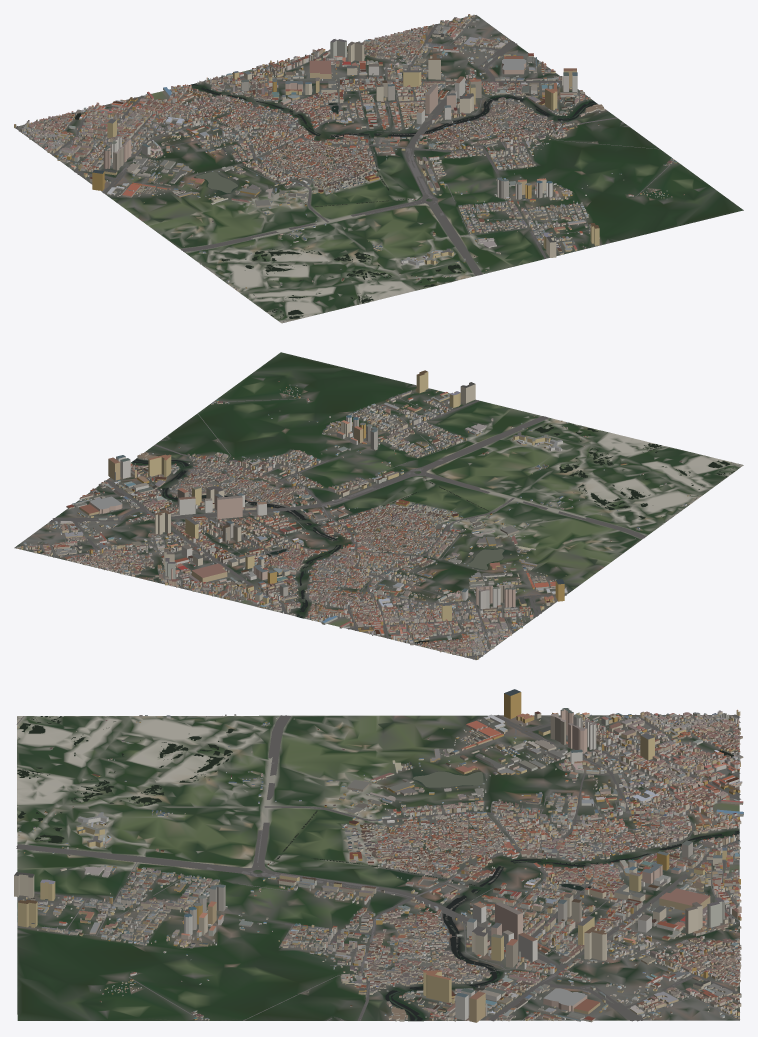
3 renders of one model, top to bottom at view 1: azimuth 30°, elevation 25°; view 2: azimuth 150°, elevation 25°; view 3: azimuth 270°, elevation 25°, orthographic. The views are drawn at different scales.
Visible parts, largest first — view 1: ground, buildings, roads, water; view 2: ground, buildings, roads, water; view 3: ground, buildings, roads, water.
Part boxes in pixels (x1,y1,x2,y2): ground: (15, 15, 743, 323); buildings: (14, 14, 684, 302); roads: (15, 15, 675, 322); water: (75, 65, 597, 318); ground: (14, 352, 743, 659); buildings: (17, 370, 703, 659); roads: (16, 393, 740, 659); water: (107, 423, 736, 643); ground: (17, 715, 739, 1021); buildings: (14, 689, 743, 1022); roads: (16, 714, 740, 1021); water: (17, 716, 739, 1020).
Size of the model in its own units: 2850 by 119 by 2833.
